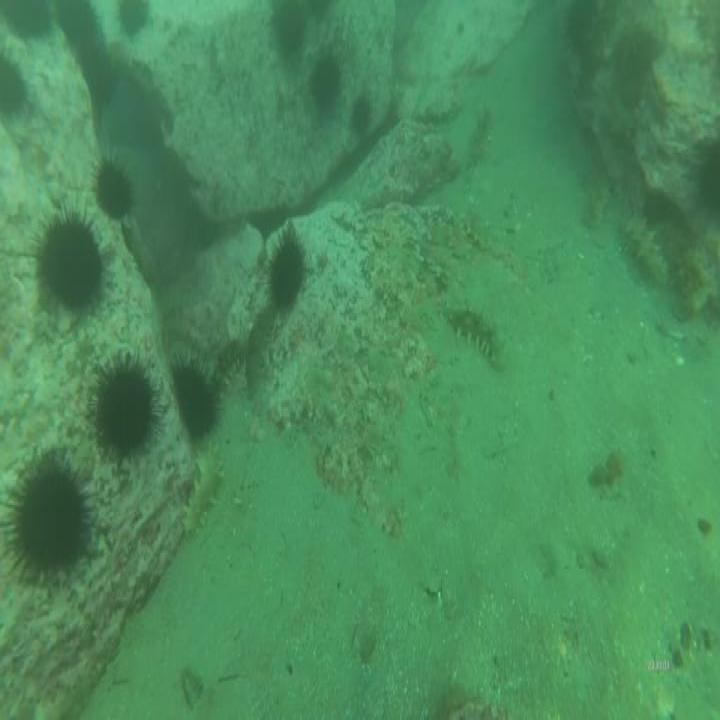echinus: (1, 444, 105, 601), (26, 194, 111, 329), (81, 343, 165, 469), (166, 348, 220, 441), (85, 144, 138, 226), (266, 226, 310, 323), (302, 41, 347, 123), (267, 2, 311, 64), (0, 48, 40, 114), (0, 0, 58, 44), (115, 0, 154, 43), (347, 85, 375, 139)
holothurian: (446, 300, 512, 378), (616, 210, 671, 295), (241, 298, 281, 397), (184, 446, 226, 539), (459, 103, 497, 169), (585, 158, 615, 233), (461, 197, 497, 256), (208, 338, 244, 391)
